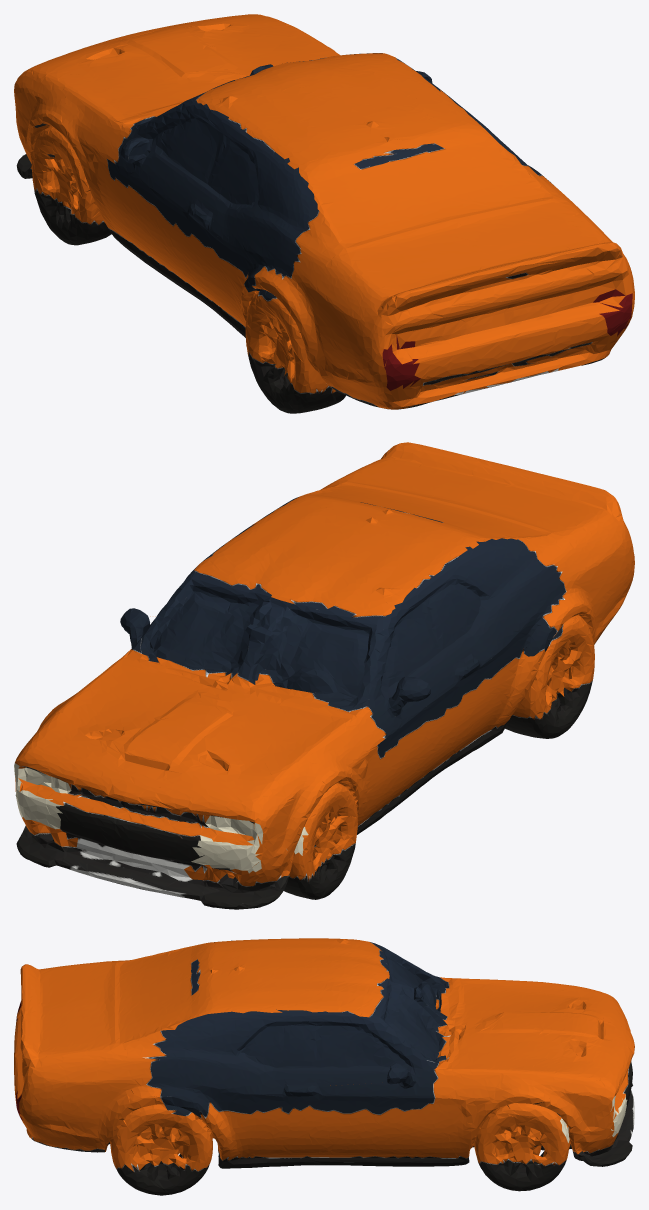
The model's file is challenger.glb.
3 views of the same model, one above another, from view 1: azimuth 30°, elevation 25°; view 2: azimuth 150°, elevation 25°; view 3: azimuth 270°, elevation 25° (orthographic). The views are drawn at different scales.
Visible parts, largest first — view 1: body, taillights_rear; view 2: body, headlights_front; view 3: body, headlights_front.
Boxes of the visible parts, box(x1,y1,x2,y2) form: body: box(14, 14, 634, 413); taillights_rear: box(382, 289, 632, 390); body: box(15, 442, 634, 909); headlights_front: box(14, 763, 308, 873); body: box(14, 938, 634, 1195); headlights_front: box(560, 1095, 627, 1142).
Bounding box in the file's own units: 96.8 × 66.16 × 212.
3 materials, 1 textured.
